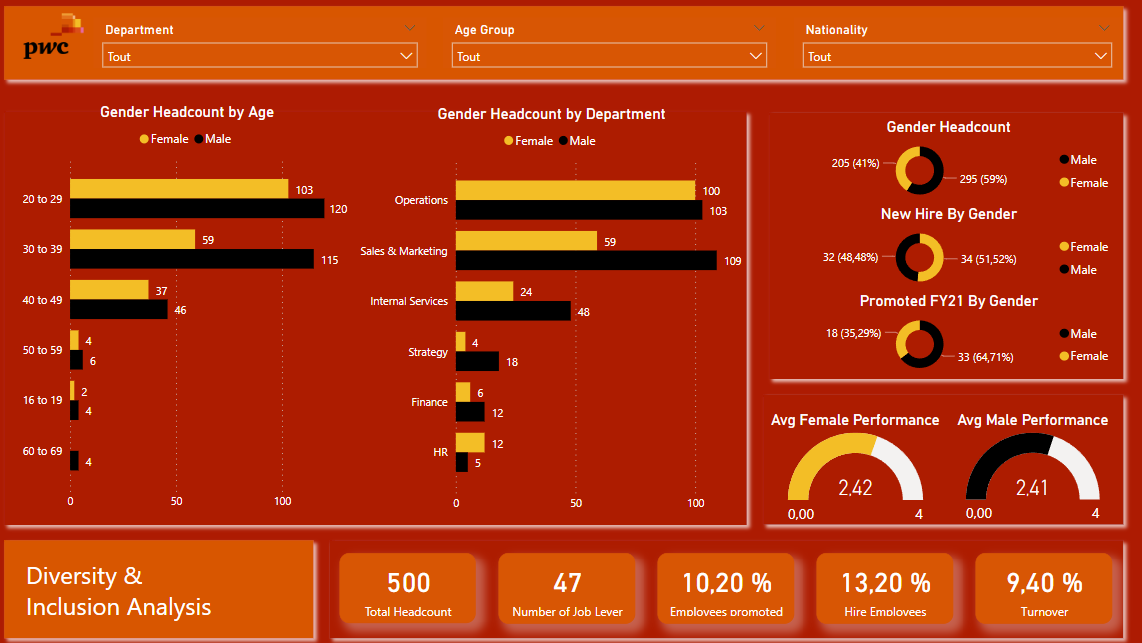

Layout of this report page (visuals, bound fields, positions):
{"tool":"powerbi","page":{"name":"Diversity & Inlusion Analysis","canvas":[1280,720],"ordinal":6},"visuals":[{"type":"shape","box":[0,0,1262,100],"z":0},{"type":"shape","box":[850,117.6,411.7,314],"z":0,"group":"g3"},{"type":"shape","box":[843.3,431.5,418.3,162.5],"z":0,"group":"g2"},{"type":"donutChart","title":"Gender Headcount","fields":{"Category":["Pharma Group AG.Gender"],"Y":["CountNonNull(Pharma Group AG.Employee ID)"]},"box":[866.8,132.5,384.2,96.7],"z":1000,"group":"g3"},{"type":"gauge","title":"Avg Female Performance ","fields":{"Y":["Pharma Group AG.Average Performance Rating Female"],"MaxValue":["Max(Pharma Group AG.FY20 Performance Rating)"]},"box":[853,458.7,203,135.9],"z":1000,"group":"g2"},{"type":"shape","box":[362,593,900,127],"z":1000},{"type":"donutChart","title":"New Hire By Gender","fields":{"Category":["Pharma Group AG.Gender"],"Y":["Sum(Pharma Group AG.New Hire FY20)"]},"box":[866.8,229.2,384.2,96.7],"z":2000,"group":"g3"},{"type":"gauge","title":"Avg Male Performance ","fields":{"MaxValue":["Max(Pharma Group AG.FY20 Performance Rating)"],"Y":["Pharma Group AG.Average Male Performance"]},"box":[1052.8,458.3,197.3,135.2],"z":2000,"group":"g2"},{"type":"shape","box":[0,593,362,127],"z":2000},{"type":"slicer","fields":{"Values":["Pharma Group AG.Department @01.07.2020"]},"box":[108,22,370,56],"z":3000},{"type":"shape","box":[0,116,843.3,478],"z":3000,"group":"g4"},{"type":"donutChart","title":"Promoted FY21 By Gender","fields":{"Category":["Pharma Group AG.Gender"],"Y":["Sum(Pharma Group AG.Promoted FY21)"]},"box":[866.8,326.4,384.2,96.2],"z":3000,"group":"g3"},{"type":"clusteredBarChart","title":"Gender Headcount by Age","fields":{"Category":["Pharma Group AG.Age group"],"Y":["CountNonNull(Pharma Group AG.Employee ID)"],"Series":["Pharma Group AG.Gender"]},"box":[20,116,385,460.8],"z":4000,"group":"g4"},{"type":"group","id":"g1","title":"Groupe 3","box":[381.7,616.7,858.3,78.3],"z":4000},{"type":"clusteredBarChart","title":"Gender Headcount by Department","fields":{"Category":["Pharma Group AG.Department @01.07.2020"],"Series":["Pharma Group AG.Gender"],"Y":["CountNonNull(Pharma Group AG.Employee ID)"]},"box":[391.7,117.6,451.7,460.8],"z":5000,"group":"g4"},{"type":"textbox","box":[28,616,248,88],"z":5000},{"type":"image","box":[20,11,88,61],"z":6000},{"type":"group","id":"g2","title":"Groupe 1","box":[843.3,431.5,418.3,163.1],"z":6000,"group":"g4"},{"type":"card","fields":{"Values":["Pharma Group AG.Total Headcount"]},"box":[381.7,616.9,151,78],"z":6000,"group":"g1"},{"type":"slicer","fields":{"Values":["Pharma Group AG.Age group"]},"box":[496,22,370,56],"z":7000},{"type":"group","id":"g3","title":"Groupe 2","box":[850,117.6,411.7,314],"z":7000,"group":"g4"},{"type":"card","fields":{"Values":["Pharma Group AG.Number of Job Lever"]},"box":[557.8,616.7,151.7,78.3],"z":7000,"group":"g1"},{"type":"slicer","fields":{"Values":["Pharma Group AG.Nationality 1"]},"box":[886.7,21.7,363.3,56.7],"z":8000},{"type":"card","fields":{"Values":["Pharma Group AG.Employees promoted"]},"box":[734.5,616.7,151.7,78.3],"z":8000,"group":"g1"},{"type":"group","id":"g4","title":"Groupe 4","box":[0,116,1262,478],"z":9000},{"type":"card","fields":{"Values":["Pharma Group AG.Hire Employees"]},"box":[911.3,616.7,151.7,78.3],"z":9000,"group":"g1"},{"type":"card","fields":{"Values":["Pharma Group AG.Turnover"]},"box":[1088,616.7,151.7,78.3],"z":10000,"group":"g1"}]}

Visuals, with their boxes in screenshot pixels (x1, y1, x2, y2), scaled from the page's 1280x720 canvas onto the 1142x643 screenshot:
shape: region(0, 0, 1126, 89)
shape: region(758, 105, 1126, 385)
shape: region(752, 385, 1126, 530)
"Gender Headcount" donutChart: region(773, 118, 1116, 205)
"Avg Female Performance " gauge: region(761, 410, 942, 531)
shape: region(323, 530, 1126, 642)
"New Hire By Gender" donutChart: region(773, 205, 1116, 291)
"Avg Male Performance " gauge: region(939, 409, 1115, 530)
shape: region(0, 530, 323, 642)
slicer - Pharma Group AG.Department @01.07.2020: region(96, 20, 426, 70)
shape: region(0, 104, 752, 530)
"Promoted FY21 By Gender" donutChart: region(773, 291, 1116, 377)
"Gender Headcount by Age" clusteredBarChart: region(18, 104, 361, 515)
"Groupe 3" group: region(341, 551, 1106, 621)
"Gender Headcount by Department" clusteredBarChart: region(349, 105, 752, 517)
textbox: region(25, 550, 246, 629)
image: region(18, 10, 96, 64)
"Groupe 1" group: region(752, 385, 1126, 531)
card - Pharma Group AG.Total Headcount: region(341, 551, 475, 621)
slicer - Pharma Group AG.Age group: region(443, 20, 773, 70)
"Groupe 2" group: region(758, 105, 1126, 385)
card - Pharma Group AG.Number of Job Lever: region(498, 551, 633, 621)
slicer - Pharma Group AG.Nationality 1: region(791, 19, 1115, 70)
card - Pharma Group AG.Employees promoted: region(655, 551, 791, 621)
"Groupe 4" group: region(0, 104, 1126, 530)
card - Pharma Group AG.Hire Employees: region(813, 551, 948, 621)
card - Pharma Group AG.Turnover: region(971, 551, 1106, 621)
